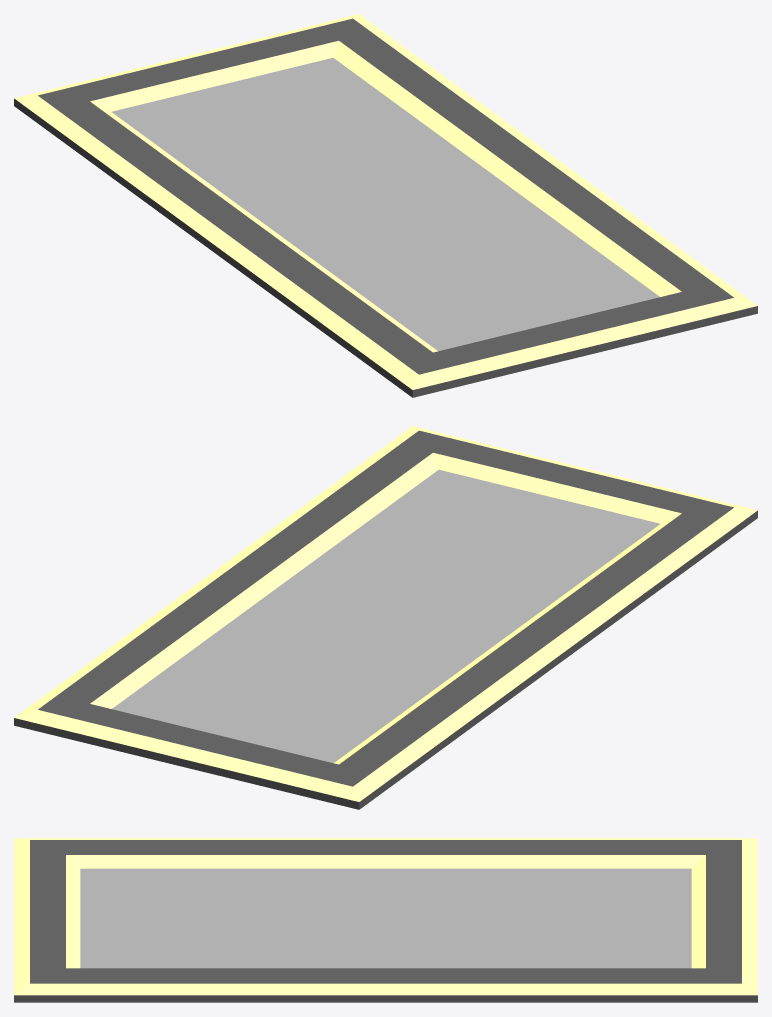
The model's file is halfplainlight.fbx.
3 renders of one model, top to bottom at view 1: azimuth 30°, elevation 25°; view 2: azimuth 150°, elevation 25°; view 3: azimuth 270°, elevation 25°, orthographic. The views are drawn at different scales.
Parts seen in each view (by area): view 1: Cube.007; view 2: Cube.007; view 3: Cube.007.
Part boxes in pixels (x1,y1,x2,y2): Cube.007: [14, 14, 757, 397]; Cube.007: [14, 426, 757, 809]; Cube.007: [14, 838, 757, 1002].
Size of the model in its own units: 1 by 0.0367 by 2.
